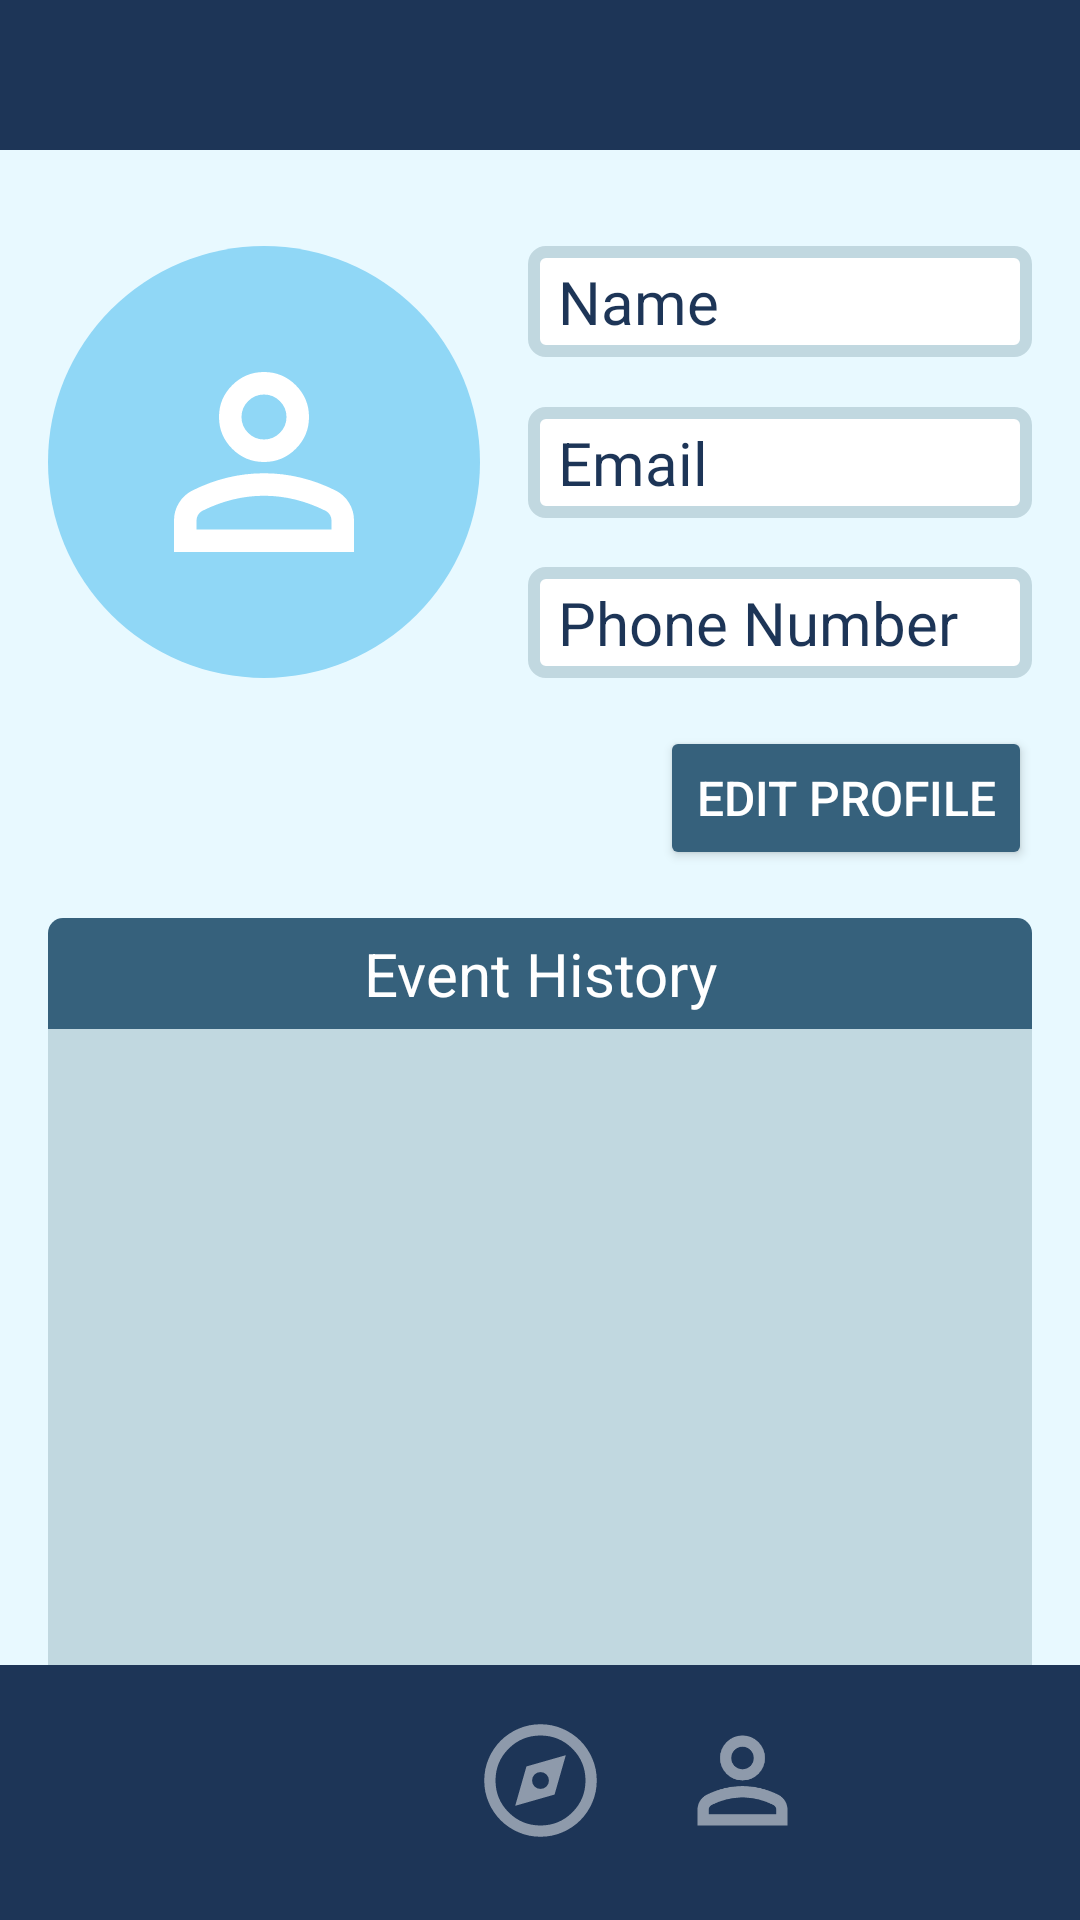

Icon click points for this 1080w x 1920h phone screenshot, format point (x, y):
explore: point (540, 1780)
